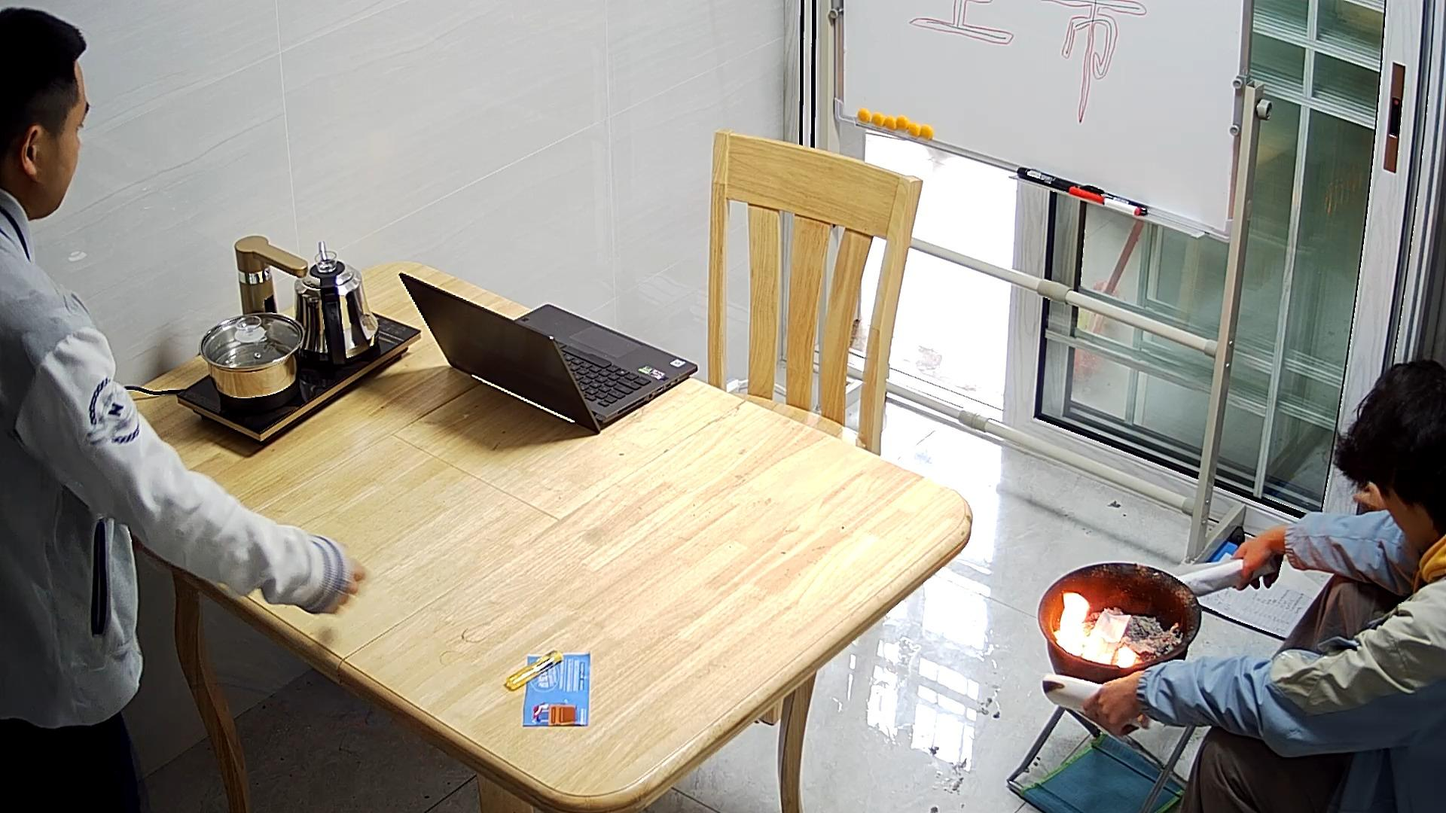fire: (1057, 594, 1088, 653)
